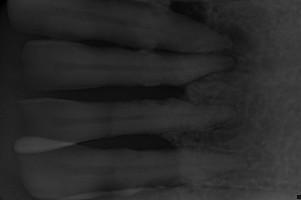Furcation Involvement: (207, 21, 259, 80)
